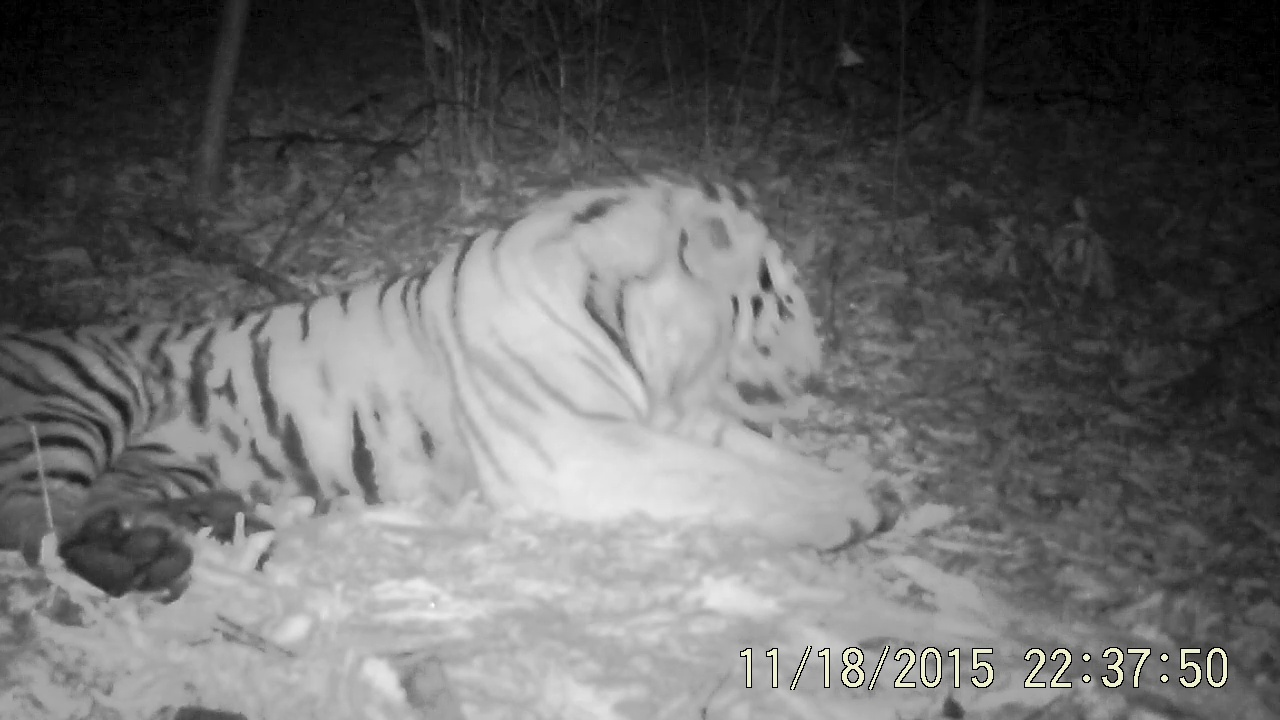Tiger: (2, 42, 996, 625)
